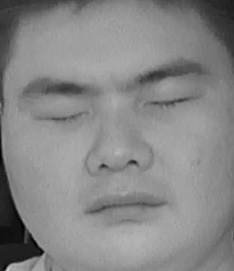blink: (39, 101, 91, 135), (148, 85, 198, 119)
mouth: (79, 183, 169, 228)
